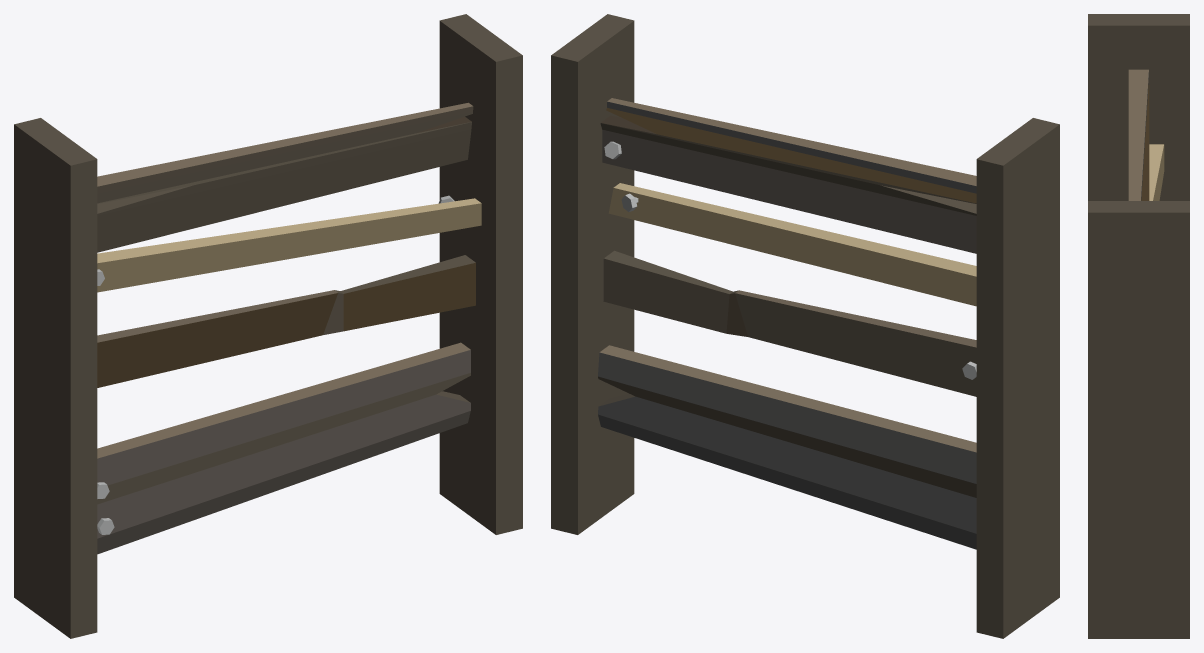
The model's file is plotek.gltf.
3 views of the same model, side by side, from view 1: azimuth 30°, elevation 25°; view 2: azimuth 150°, elevation 25°; view 3: azimuth 270°, elevation 25° (orthographic). The views are drawn at different scales.
Parts seen in each view (by area): view 1: basic_cube.004; view 2: basic_cube.004; view 3: basic_cube.004.
Boxes of the visible parts, <box> form: basic_cube.004: <box>14,14,522,638</box>; basic_cube.004: <box>551,14,1059,638</box>; basic_cube.004: <box>1088,14,1189,638</box>.
Size of the model in its own units: 2 by 2 by 0.4332.
Materials: 1 (1 with a texture image).
